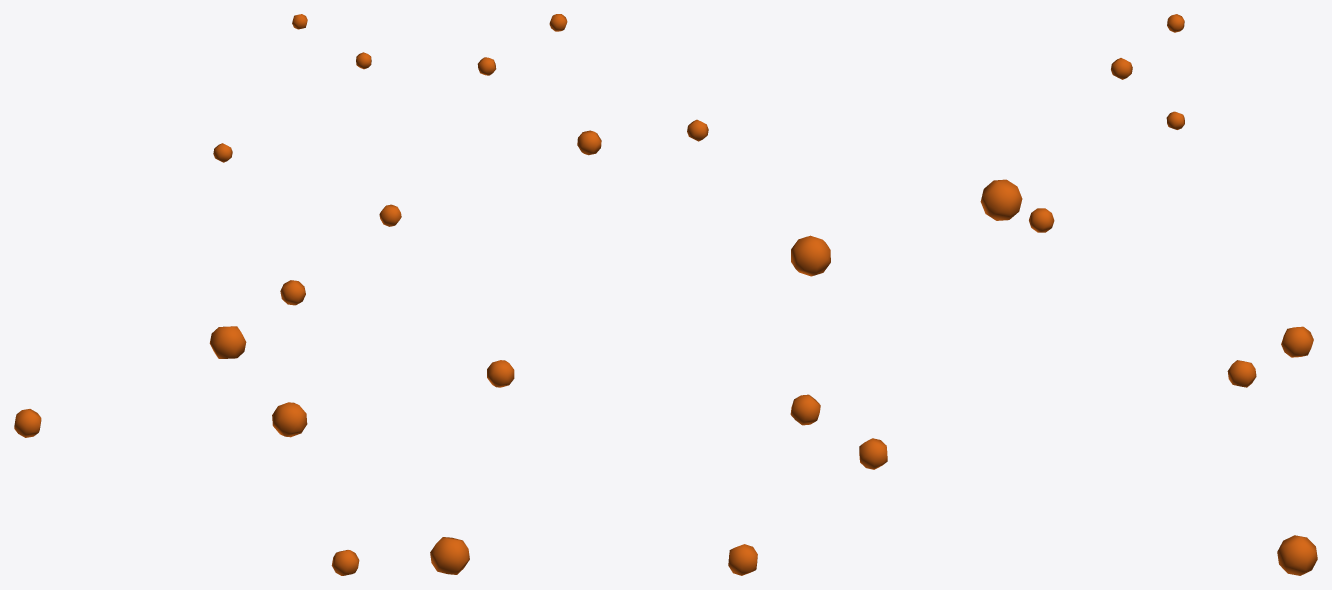
File: OrnamentBallTreeYellowFbx.FBX
The picture shows the model from 3 angles, left to right: view 1: azimuth 30°, elevation 25°; view 2: azimuth 150°, elevation 25°; view 3: azimuth 270°, elevation 25°; orthographic projection. The views are drawn at different scales.
Visible parts, largest first — view 1: bolinhas2; view 2: bolinhas2; view 3: bolinhas2.
Part boxes in pixels (left/top/right/bottom): bolinhas2: left=14, top=14, right=401, bottom=575; bolinhas2: left=430, top=14, right=830, bottom=575; bolinhas2: left=859, top=14, right=1317, bottom=575.
Size of the model in its own units: 97.26 by 145 by 113.
